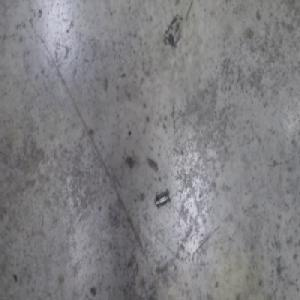Bolt: (153, 188, 170, 208)
